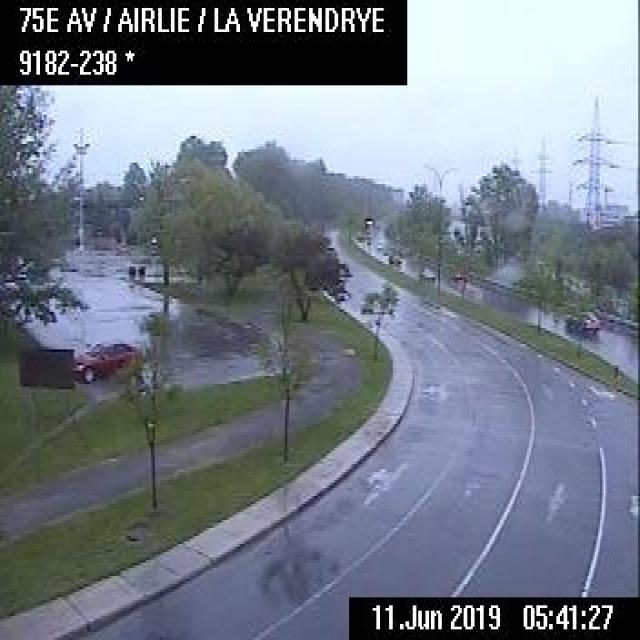vehicle: (72, 337, 144, 382), (564, 309, 598, 336), (446, 264, 468, 288), (418, 264, 434, 279), (364, 214, 372, 227)
